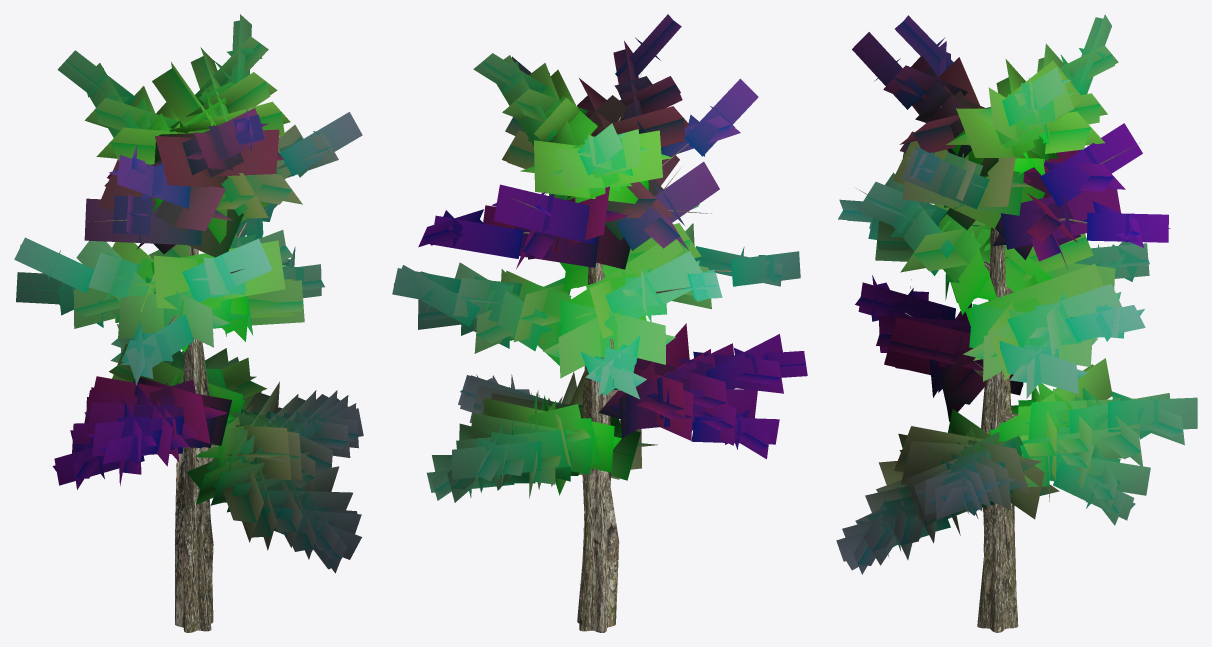
Rendered from arvore_folha_verdinho_1.fbx.
The picture shows the model from 3 angles, left to right: view 1: azimuth 30°, elevation 25°; view 2: azimuth 150°, elevation 25°; view 3: azimuth 270°, elevation 25°; orthographic projection. The views are drawn at different scales.
Visible parts, largest first — view 1: branch08_1, mossybark03_0; view 2: branch08_1, mossybark03_0; view 3: branch08_1, mossybark03_0.
Part boxes in pixels (x1,y1,x2,y2): branch08_1: (14,14,363,573); mossybark03_0: (57,75,284,632); branch08_1: (392,14,807,502); mossybark03_0: (455,69,731,632); branch08_1: (836,14,1197,574); mossybark03_0: (856,71,1137,632).
Size of the model in its own units: 467 by 840 by 463.
